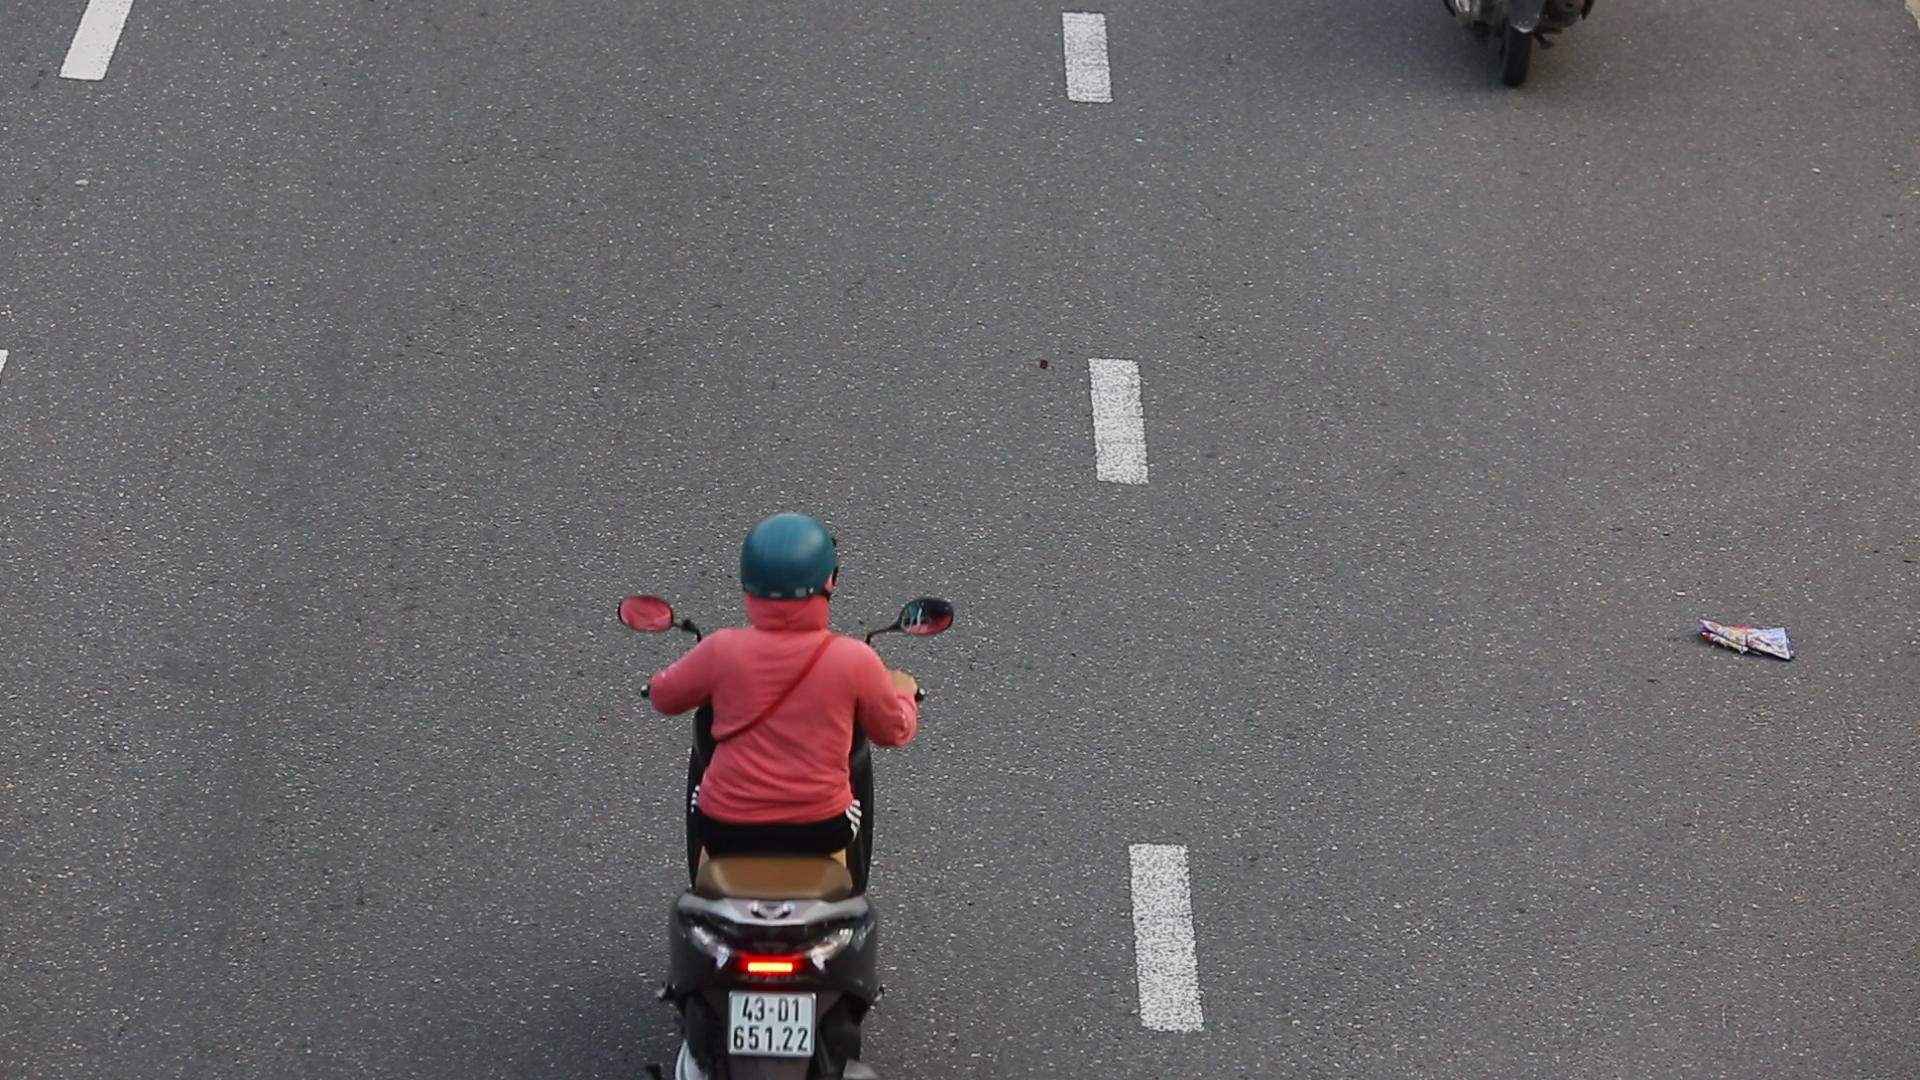motobike: (571, 498, 972, 1080)
